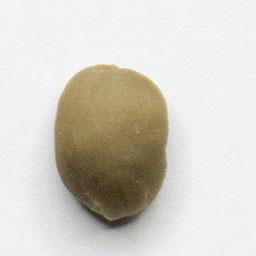peaberry: (50, 59, 173, 224)
